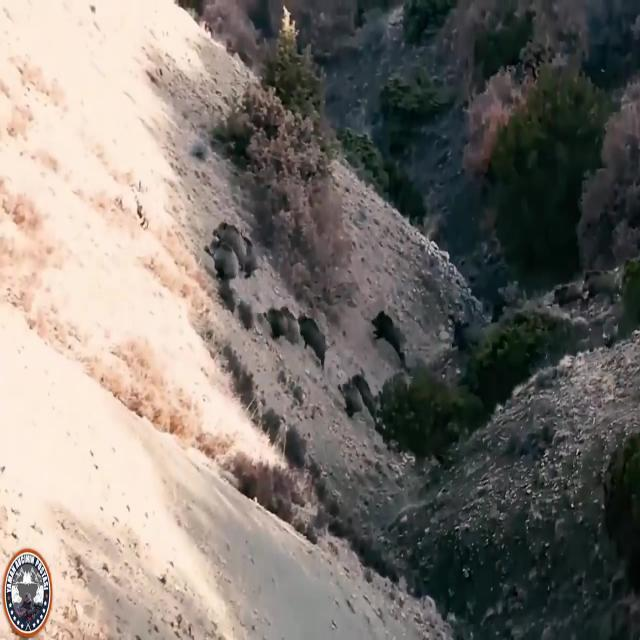pig: (371, 304, 415, 377), (208, 218, 254, 284), (297, 302, 331, 378), (201, 228, 239, 286), (261, 296, 297, 348), (338, 374, 370, 426)
